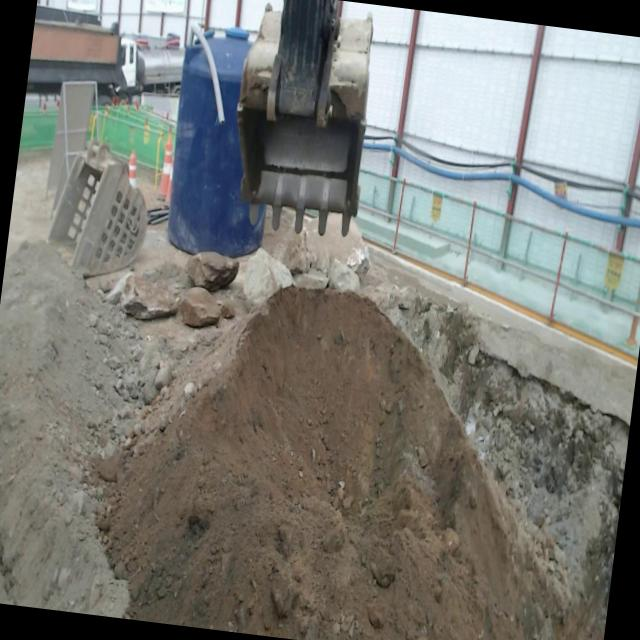red-sand: (96, 287, 535, 640)
rocks: (243, 219, 370, 306)
stone: (243, 247, 294, 306), (120, 273, 179, 319), (186, 252, 239, 291), (178, 286, 221, 327), (328, 259, 359, 291), (293, 269, 328, 289)
white-sand: (0, 240, 131, 618)
